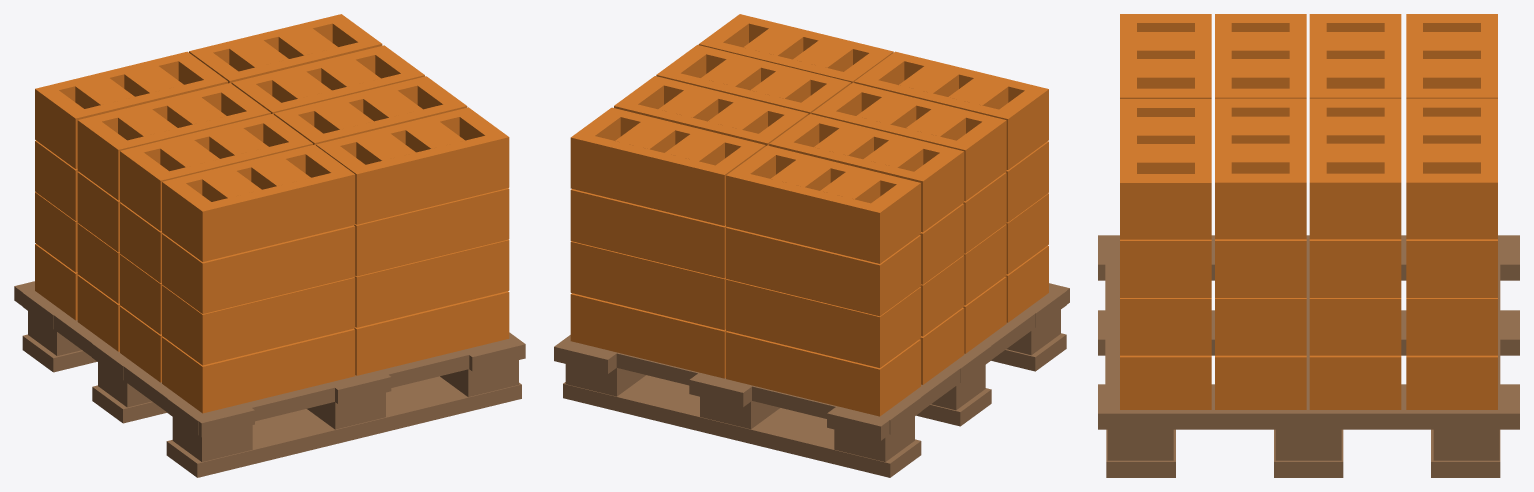
3 renders of one model, left to right at view 1: azimuth 30°, elevation 25°; view 2: azimuth 150°, elevation 25°; view 3: azimuth 270°, elevation 25°, orthographic. The views are drawn at different scales.
Visible parts, largest first — view 1: Куб.039; view 2: Куб.039; view 3: Куб.039.
Part boxes in pixels (left/top/right/bottom): Куб.039: left=14, top=14, right=525, bottom=477; Куб.039: left=554, top=14, right=1069, bottom=477; Куб.039: left=1098, top=14, right=1519, bottom=477.
Bounding box in the file's own units: 541 × 413 × 541.
